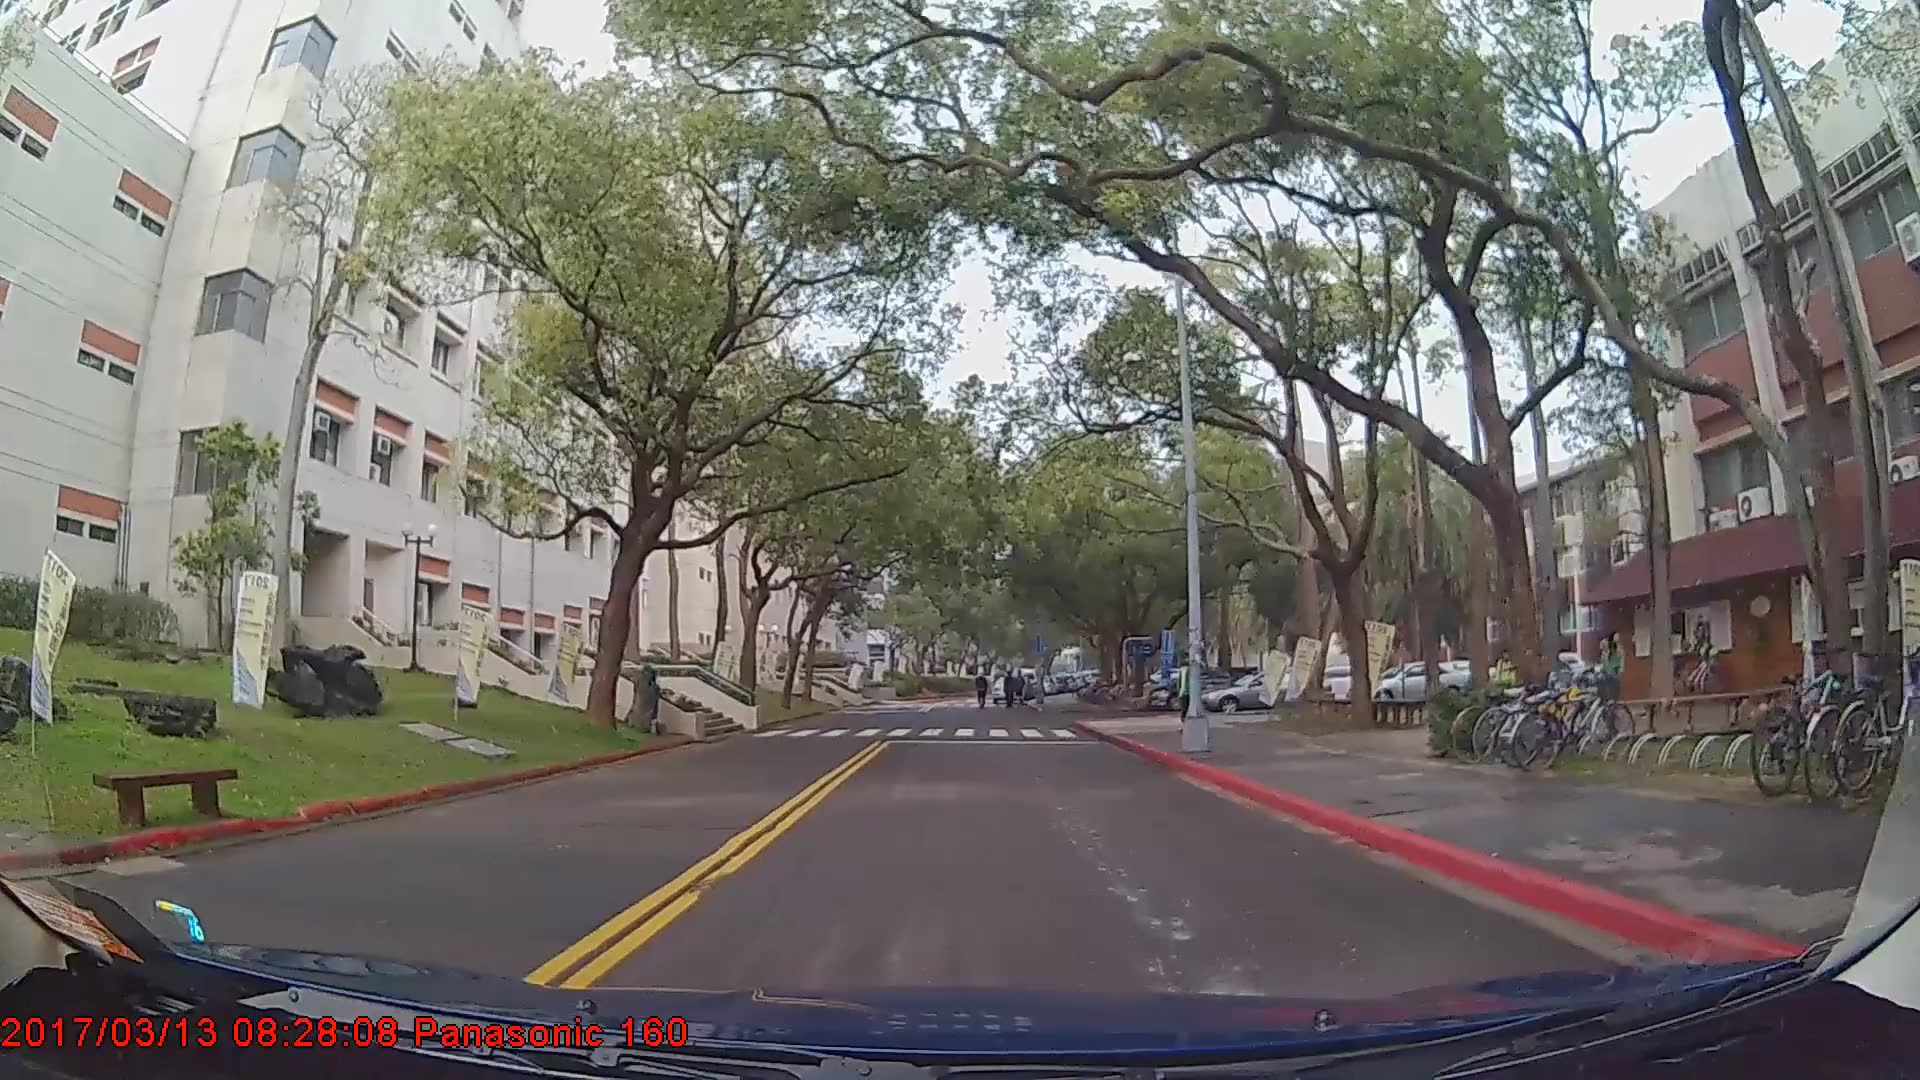vehicle: (1200, 670, 1331, 715), (1342, 659, 1469, 704)
